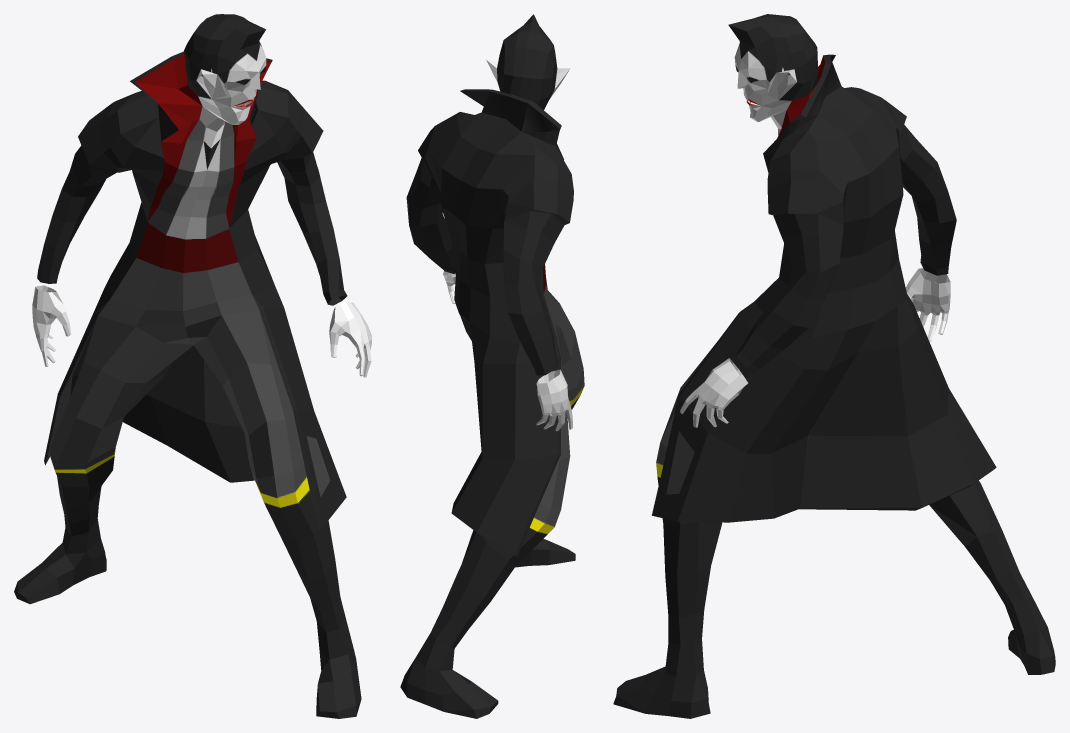
The model's file is VampireIdle(14).obj.
The picture shows the model from 3 angles, left to right: view 1: azimuth 30°, elevation 25°; view 2: azimuth 150°, elevation 25°; view 3: azimuth 270°, elevation 25°; orthographic projection. The views are drawn at different scales.
Visible parts, largest first — view 1: Plane002; view 2: Plane002; view 3: Plane002.
Boxes of the visible parts, left/top/right/bottom form: Plane002: left=14, top=14, right=371, bottom=718; Plane002: left=400, top=14, right=584, bottom=718; Plane002: left=613, top=14, right=1055, bottom=718.
Size of the model in its own units: 115 by 307 by 185.
